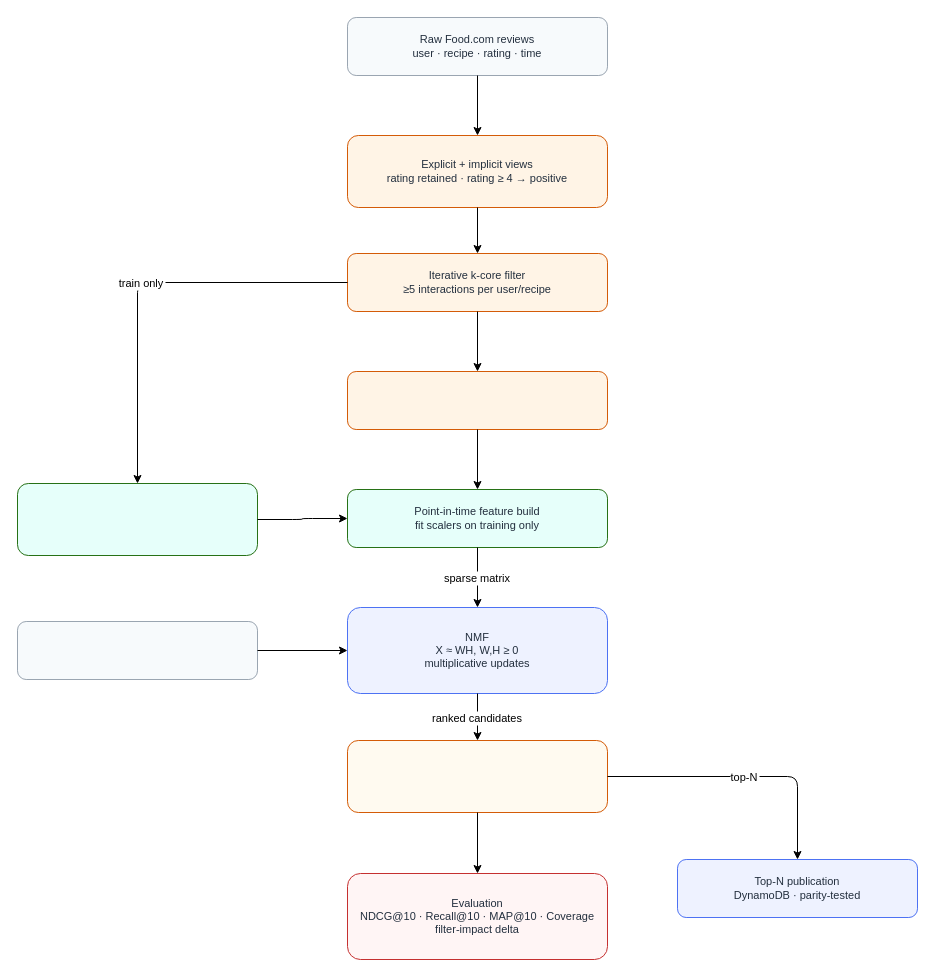
Image size: 935x977. Some labels were removed from this diagram. Here are the shapes that lost their labels. From the top down, the centre of each, then its label:
At point 477,400: "Global temporal split train < τ₁ · val < τ₂ · test".
At point 137,519: "Feature registry conf/features.yaml strict cut-off (<)".
At point 137,650: "Baselines Popularity · shrunk Item-kNN".
At point 477,776: "Nutrition-aware post-filter calories · sodium · allergens".
